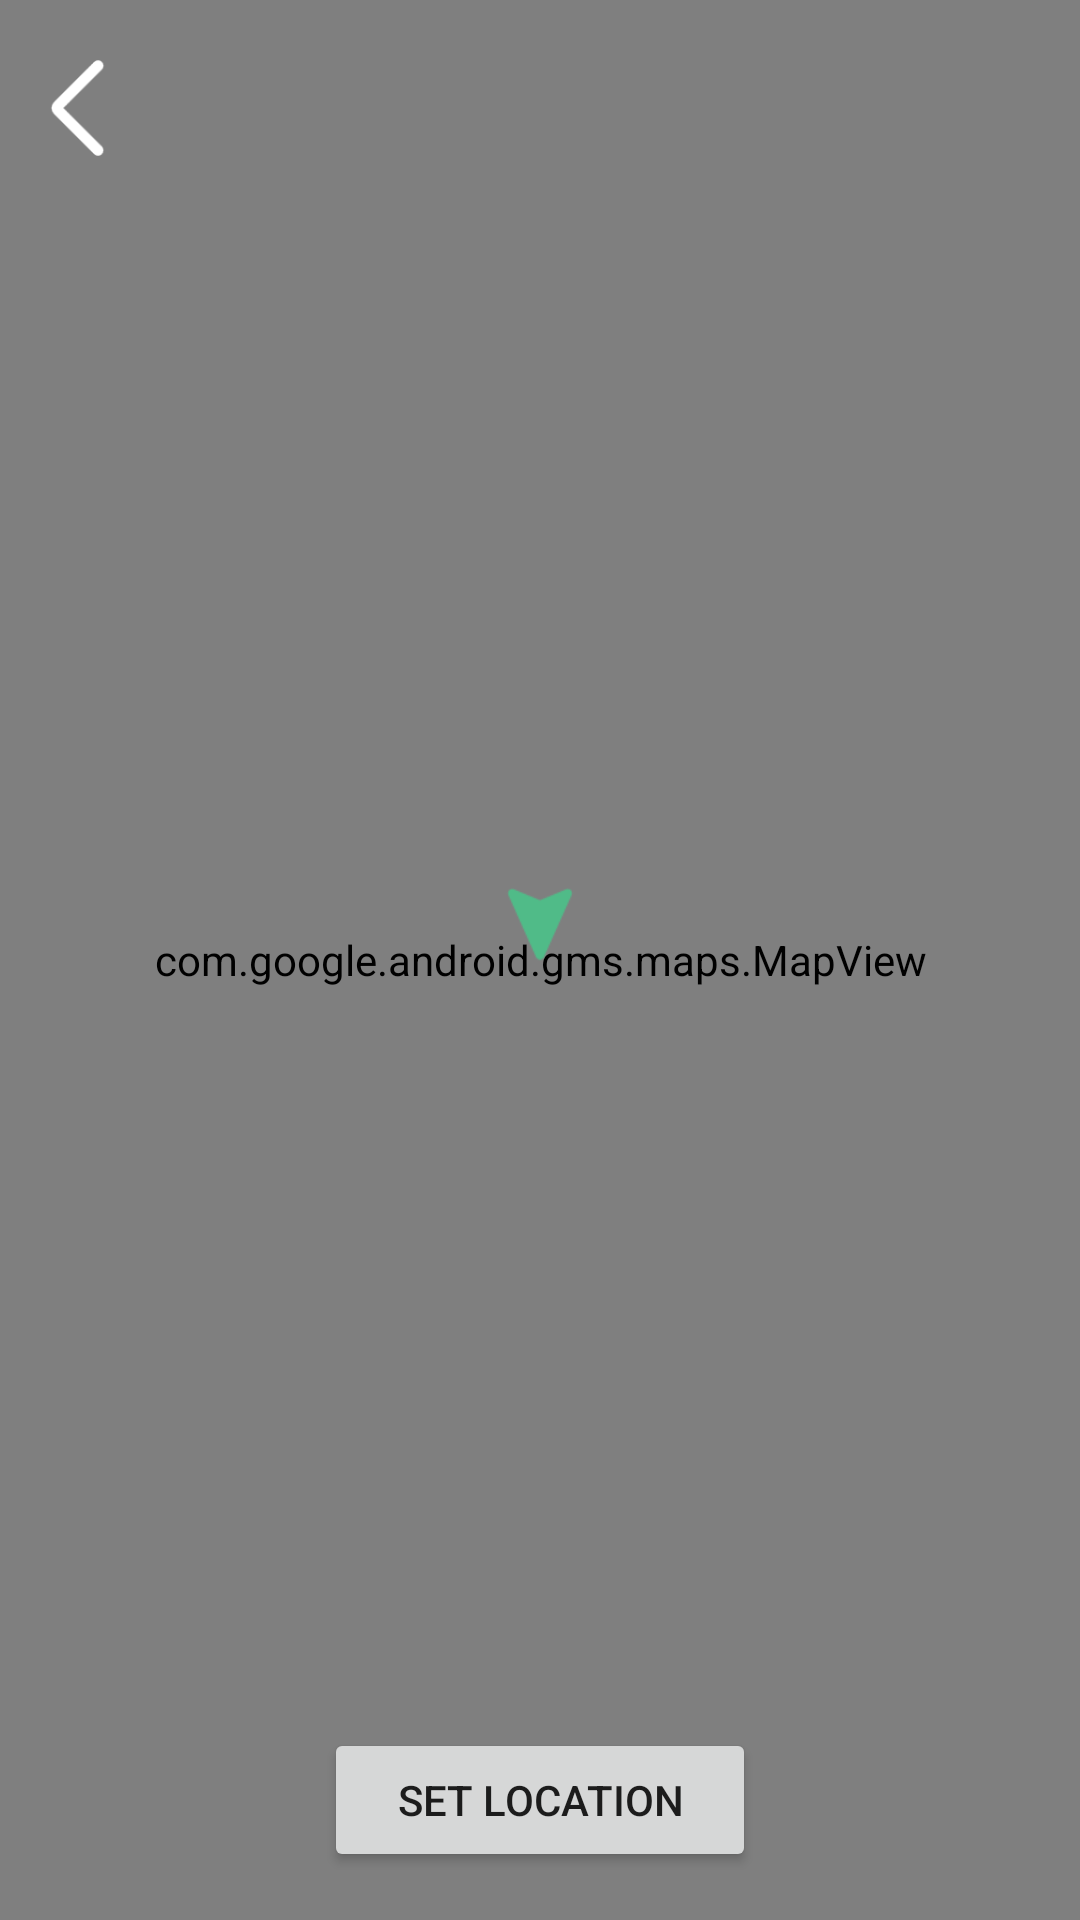

Locate icon controls on the screen. Image size 1080 x 1920, boxes as (x1,y1,x2,y2).
back arrow: (51,60,104,156)
